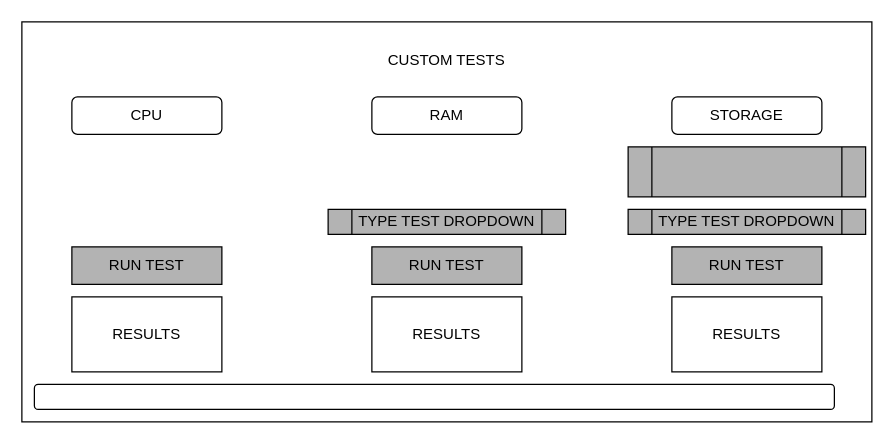
Some shapes in this 894 by 444 pixel diagram are drawn without their labels. Each missing label, with the centre of its shape:
EXIT: pixel 433 396
SELECT FOLDER FOR TEST: pixel 746 171
